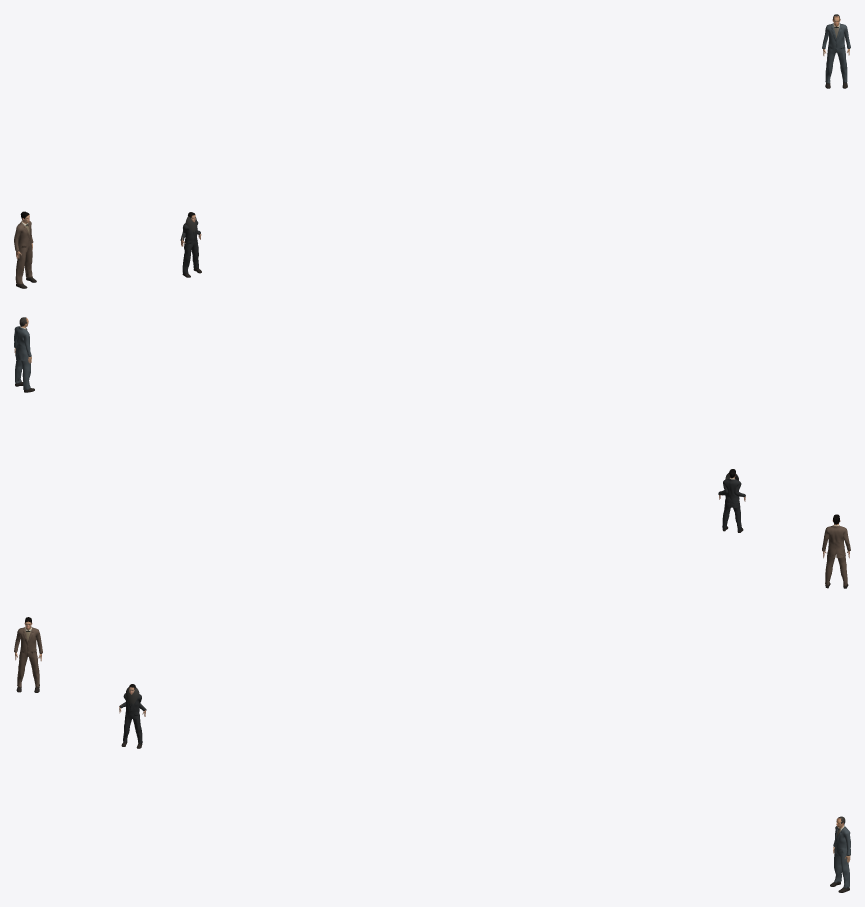
Rendered from street-characters.glb.
3 renders of one model, top to bottom at view 1: azimuth 30°, elevation 25°; view 2: azimuth 150°, elevation 25°; view 3: azimuth 330°, elevation 25°, orthographic.
Visible parts, largest first — view 1: resident-east_upper_Coat; view 2: resident-west_upper_Coat, resident-west_root_Coat; view 3: resident-west_upper_Coat.
Part boxes in pixels (left/top/right/bottom): resident-east_upper_Coat: left=822, top=23, right=850, bottom=50; resident-west_upper_Coat: left=822, top=525, right=850, bottom=552; resident-west_root_Coat: left=822, top=549, right=850, bottom=586; resident-west_upper_Coat: left=14, top=626, right=42, bottom=654.
Size of the model in its own units: 21.57 by 1.78 by 1.79.
30 materials, 12 textured.
